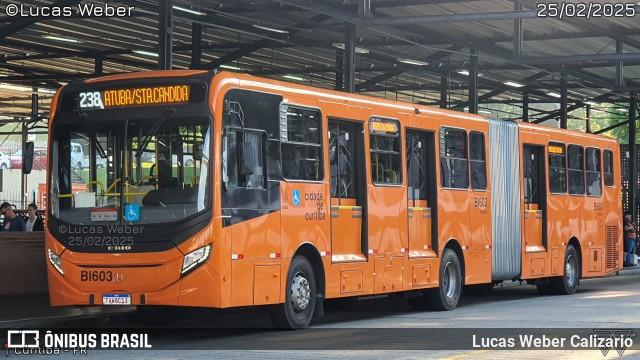ATUBA STACANDIDA: (101, 83, 191, 108)
